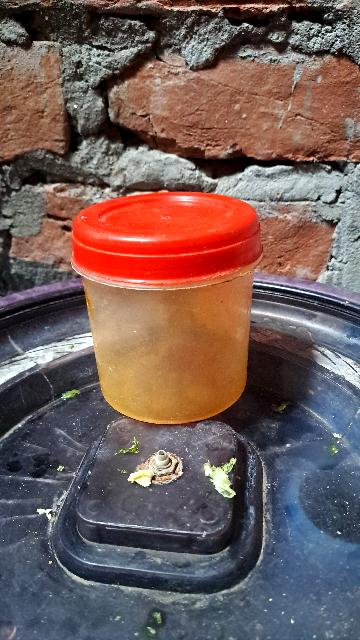hardplastic: (86, 186, 253, 424)
